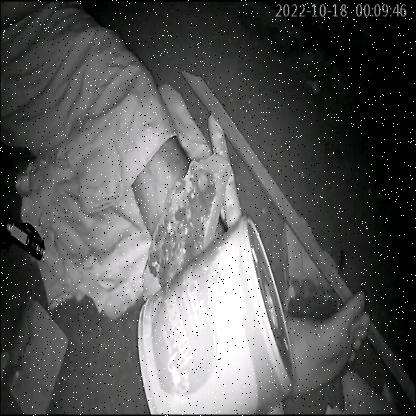leg: (280, 269, 384, 391)
